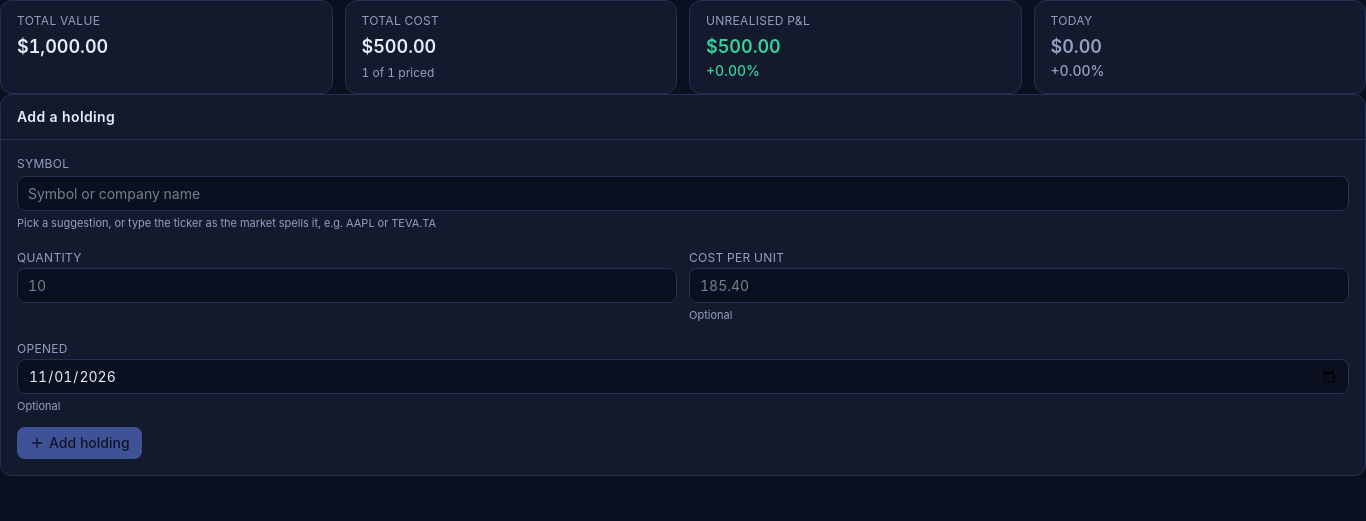
Test: adding a holding › reports a refusal, keeps the typing, and does not refetch
Expected: the text "$1,000.00" is shown, [17,36,108,57]
Type "NOSUCH" into the dropdown with placeholder "Symbol or company name".
click(683, 194); type("NOSUCH")  # box [17,176,1349,211]
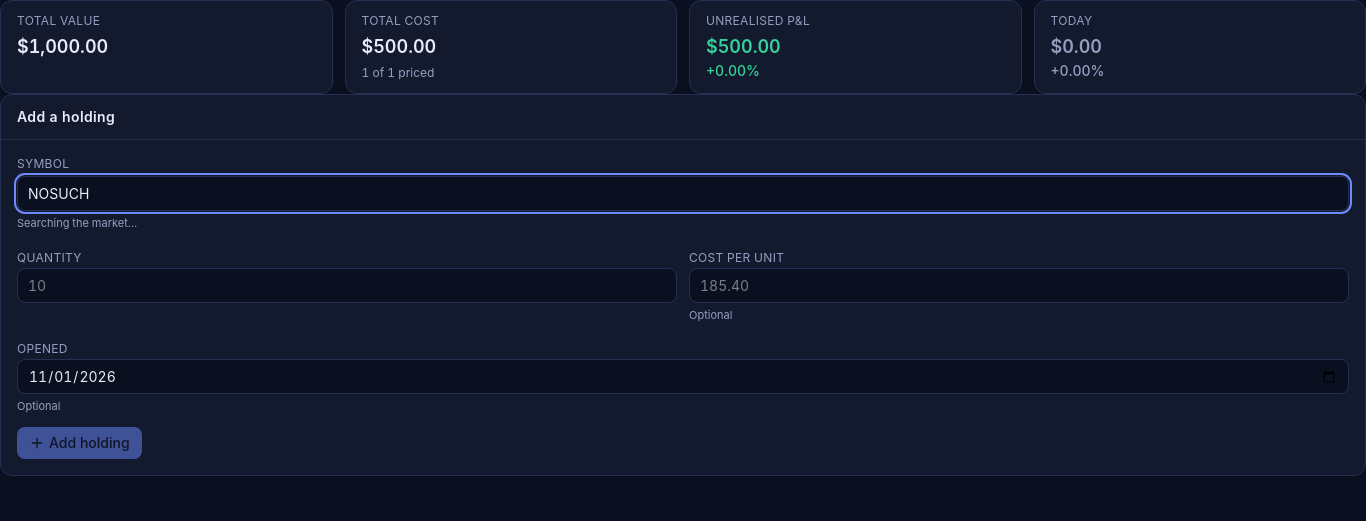
Type "1" into the field with placeholder "10".
click(347, 285); type("1")  # box [17,268,677,302]
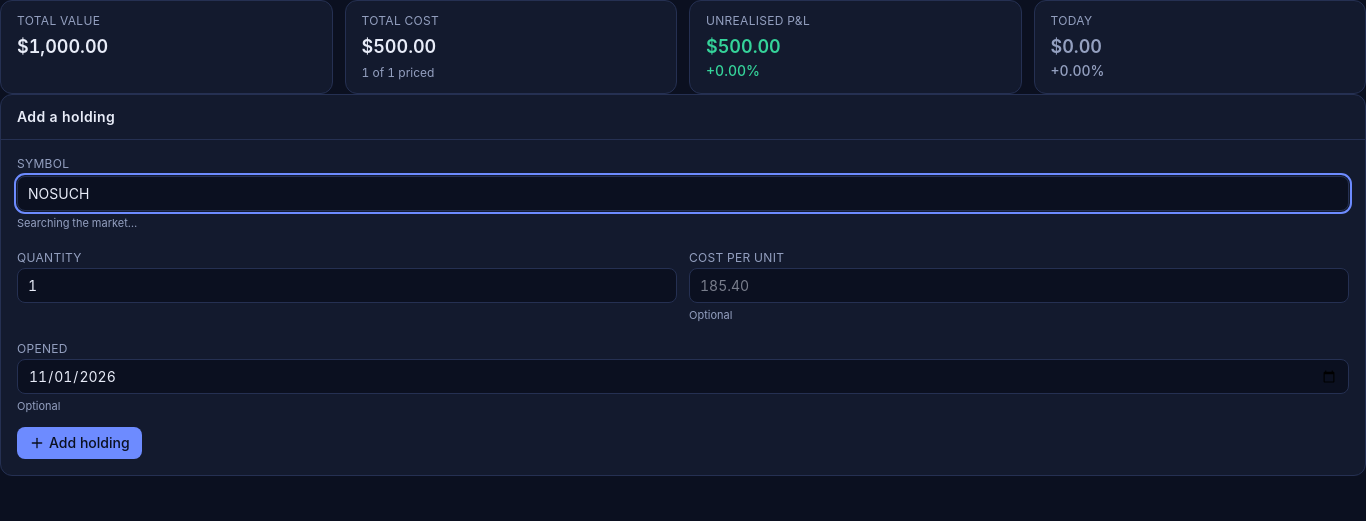
Click the button "Add holding".
click(79, 442)  # box [17,426,142,458]
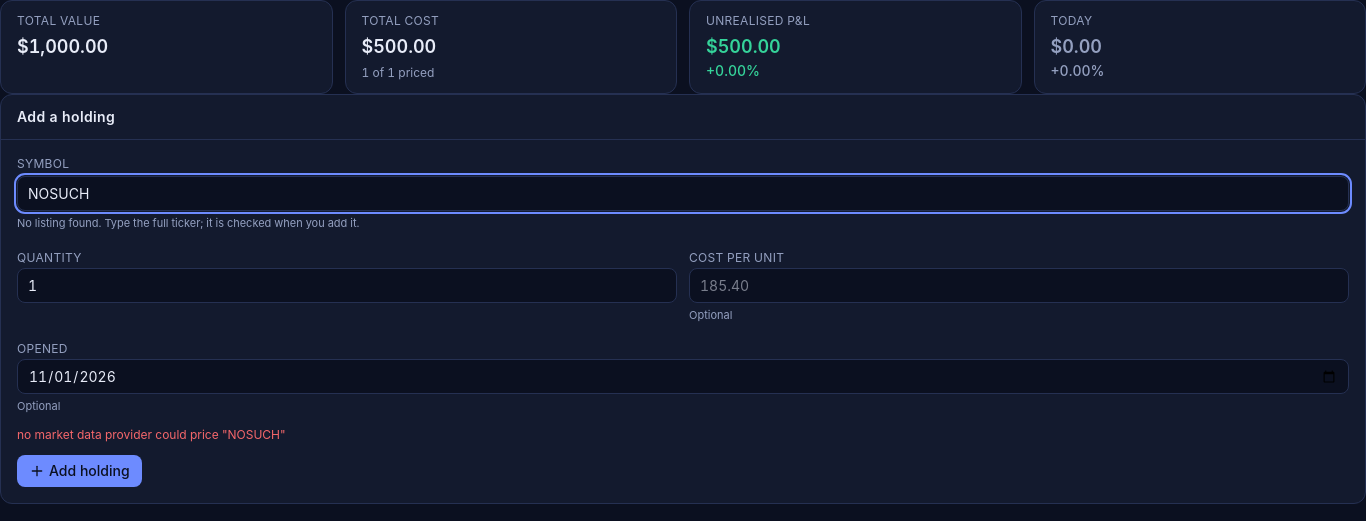
Expected: the text "no market data provider could price \"NOSUCH\"" is shown, [17,426,286,442]
